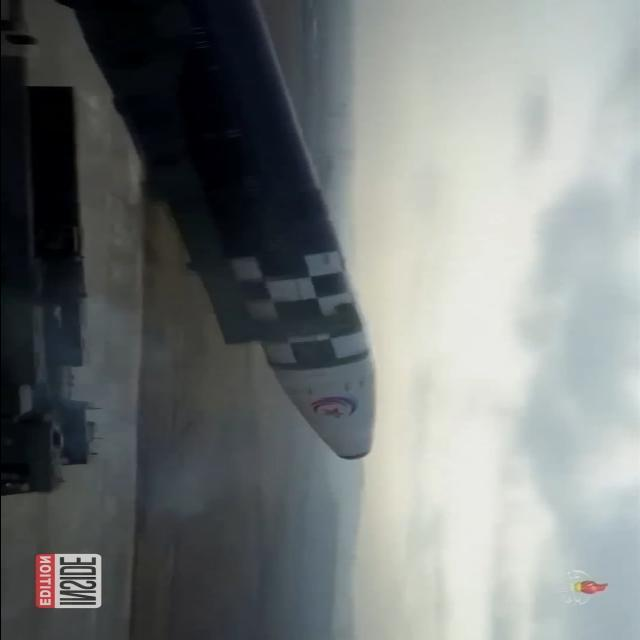Missile: (89, 0, 413, 462)
